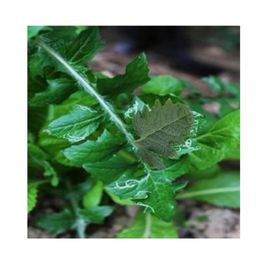liriomyza: (112, 169, 150, 190), (123, 97, 152, 119), (174, 137, 200, 154), (190, 110, 203, 137), (137, 201, 156, 214)
